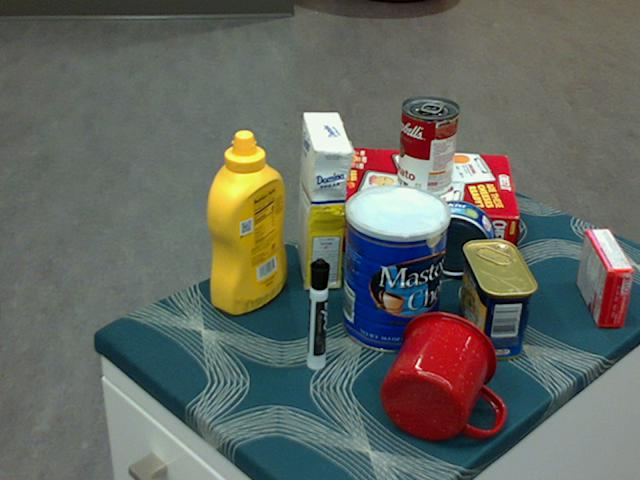cracker_box: (332, 149, 518, 259)
gelatin_box: (576, 229, 633, 328)
large_marker: (306, 258, 328, 371)
master_chef_can: (343, 184, 452, 353)
mug: (381, 310, 502, 440)
mustard_bottle: (205, 130, 287, 315)
potted_meat_can: (458, 240, 538, 359)
sugar_box: (296, 112, 350, 292)
tomato_soup_can: (398, 97, 459, 198)
tuna_fish_can: (417, 199, 495, 276)
